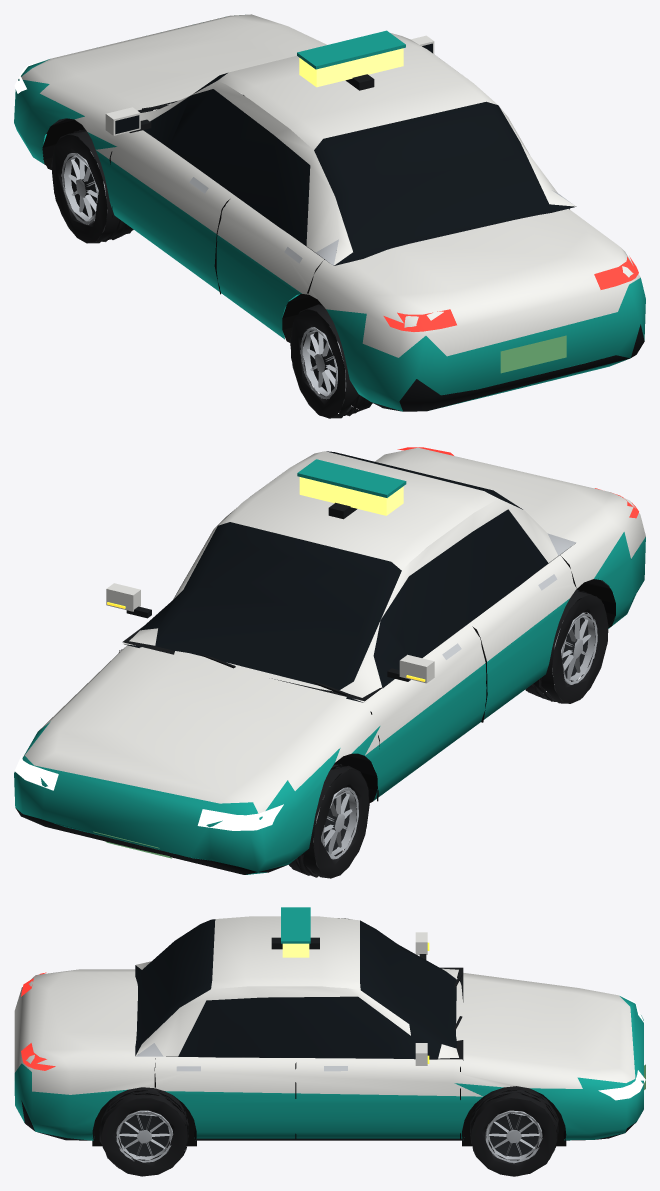
File: gz_taxi_lod2.glb
The picture shows the model from 3 angles, top to bottom: view 1: azimuth 30°, elevation 25°; view 2: azimuth 150°, elevation 25°; view 3: azimuth 270°, elevation 25°; orthographic projection. The views are drawn at different scales.
Visible parts, largest first — view 1: vehicle_lod2; view 2: vehicle_lod2; view 3: vehicle_lod2.
Part boxes in pixels (box(x1,y1,x2,y2)): vehicle_lod2: box(14, 14, 645, 418); vehicle_lod2: box(14, 447, 645, 878); vehicle_lod2: box(14, 907, 645, 1176).
Bounding box in the file's own units: 2.14 × 1.69 × 4.72.
